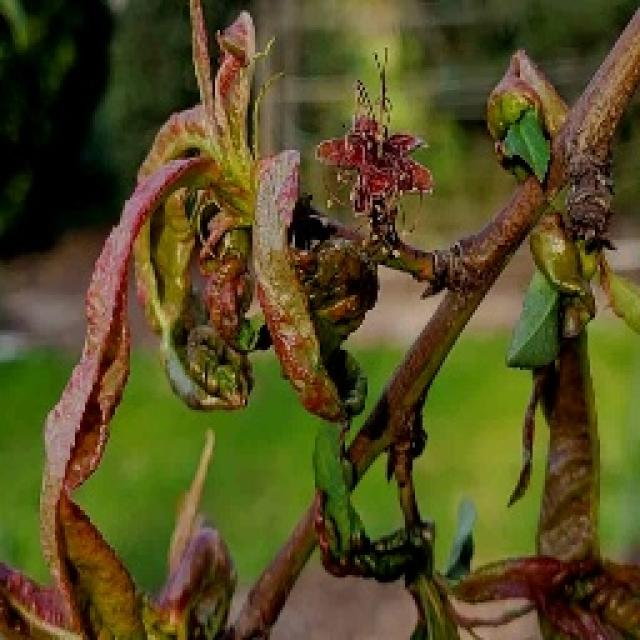peach_leaf_curl: (89, 37, 426, 405), (451, 13, 625, 543)
